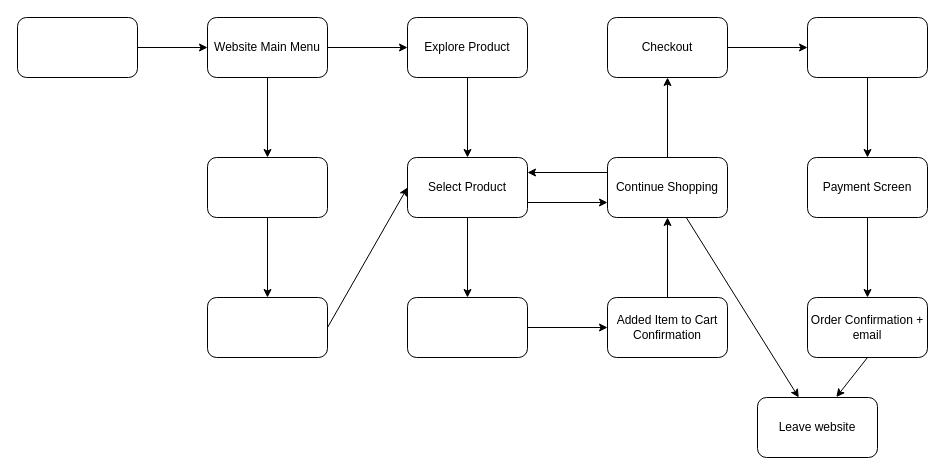
The diagram is 945 pixels wide and 475 high, and some of its shapes have lost their labels. The shapes that lost their labels are listed below. From the top down, each one's centre as x and y in pixels, then its label:
At [77,47]: "User".
At [867,47]: "View Cart".
At [267,187]: "Seach Product".
At [267,327]: "Seach bar for products".
At [467,327]: "Add Item to Cart".
